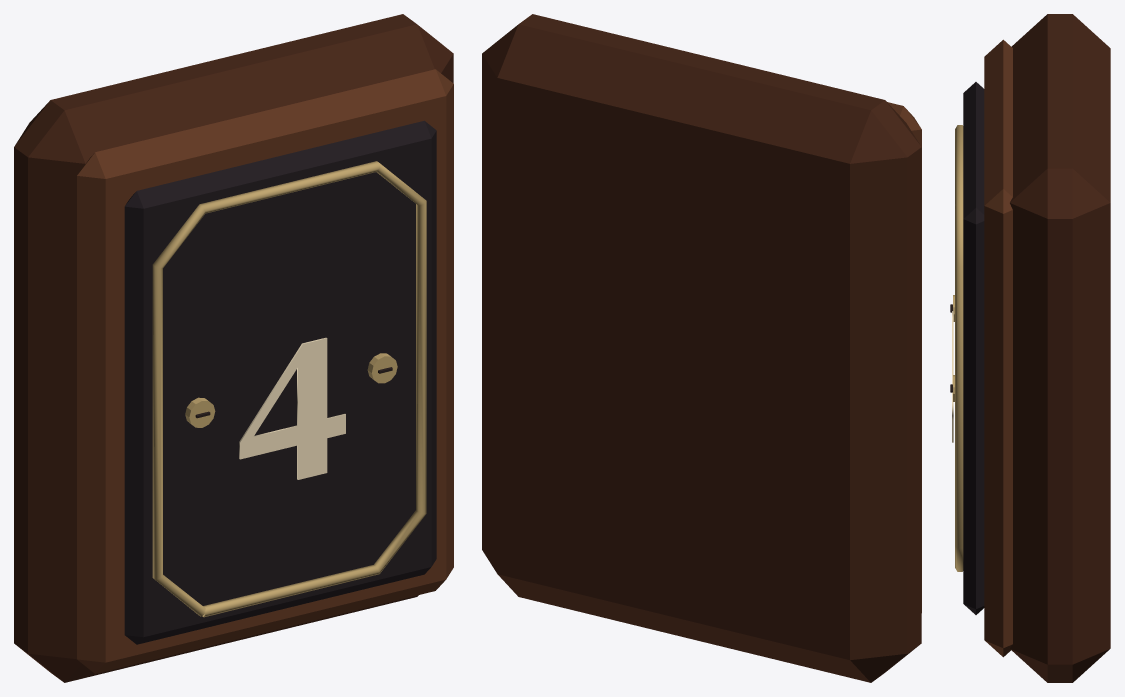
The model's file is BedroomNumber04.glb.
3 views of the same model, side by side, from view 1: azimuth 30°, elevation 25°; view 2: azimuth 150°, elevation 25°; view 3: azimuth 270°, elevation 25° (orthographic). The views are drawn at different scales.
Visible parts, largest first — view 1: EnamelFace.010, BevelledOak.010, OakMoulding.010, GoldCartouche.010, Lettering_4, FlushBrassFixing.021, FlushBrassFixing.020; view 2: BevelledOak.010, OakMoulding.010; view 3: BevelledOak.010, OakMoulding.010, EnamelFace.010, GoldCartouche.010.
Part boxes in pixels (box(x1,y1,x2,y2)): EnamelFace.010: box(124, 120, 436, 644); BevelledOak.010: box(14, 14, 453, 682); OakMoulding.010: box(77, 69, 453, 673); GoldCartouche.010: box(152, 161, 426, 617); Lettering_4: box(239, 337, 345, 479); FlushBrassFixing.021: box(367, 353, 397, 383); FlushBrassFixing.020: box(185, 397, 215, 427); BevelledOak.010: box(482, 14, 921, 682); OakMoulding.010: box(887, 102, 921, 612); BevelledOak.010: box(1010, 14, 1110, 682); OakMoulding.010: box(984, 39, 1012, 657); EnamelFace.010: box(963, 82, 984, 614); GoldCartouche.010: box(955, 125, 963, 571).
Size of the model in its own units: 1.05 by 1.35 by 0.381.
